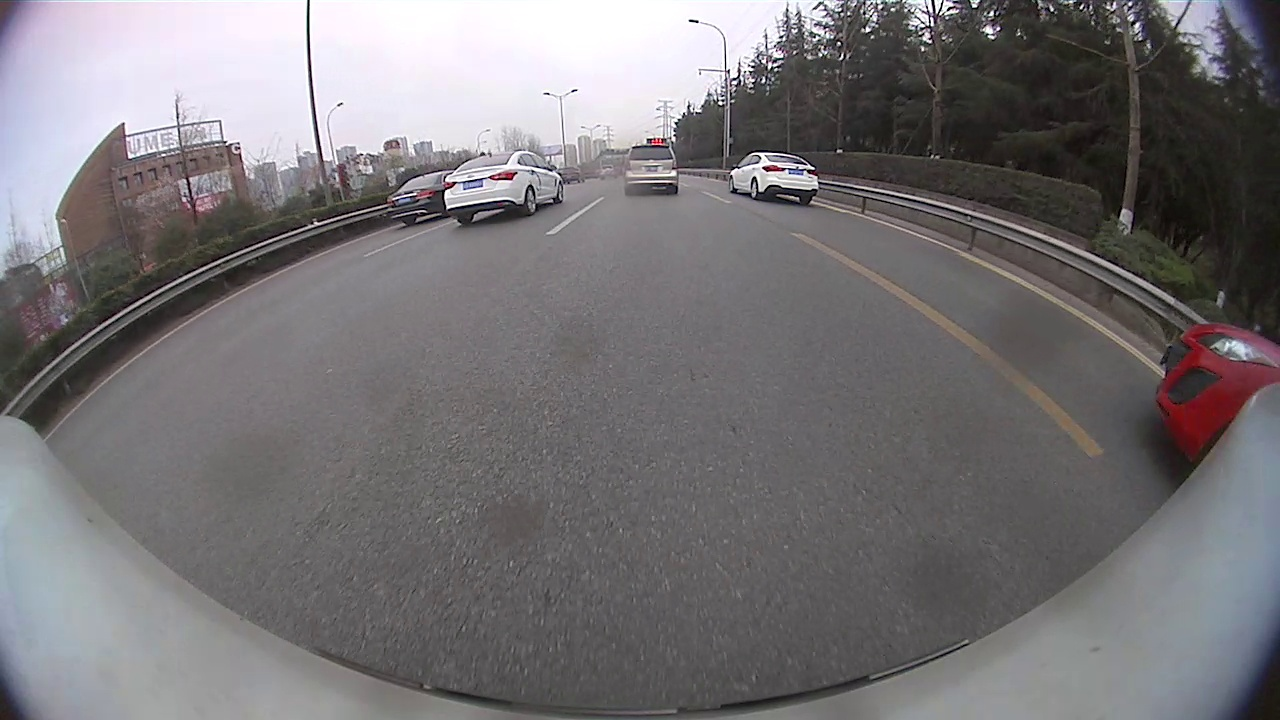car: (1155, 321, 1278, 467), (442, 150, 565, 227), (728, 150, 820, 205), (385, 168, 458, 225), (625, 145, 679, 194)
front: (557, 184, 566, 203)
rear: (525, 190, 539, 216), (748, 178, 758, 200), (727, 178, 736, 193)
